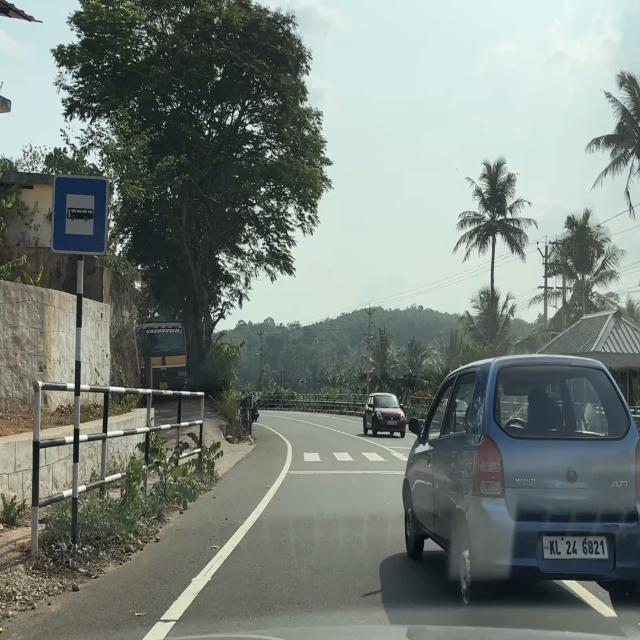INFORMATION: (50, 169, 108, 255)
